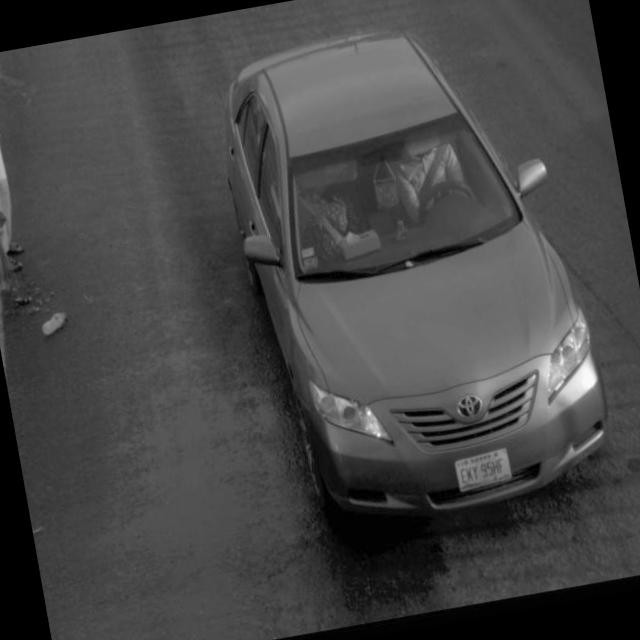person_with_seatbelt: (368, 112, 491, 255)
